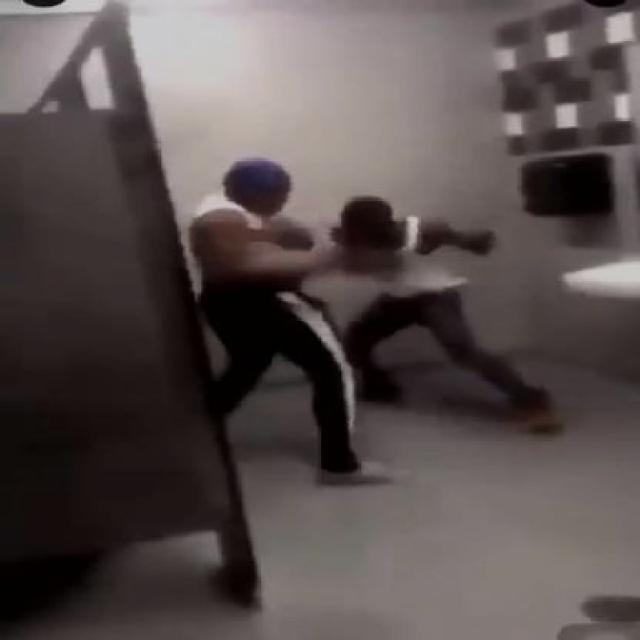fight: (138, 120, 582, 528)
